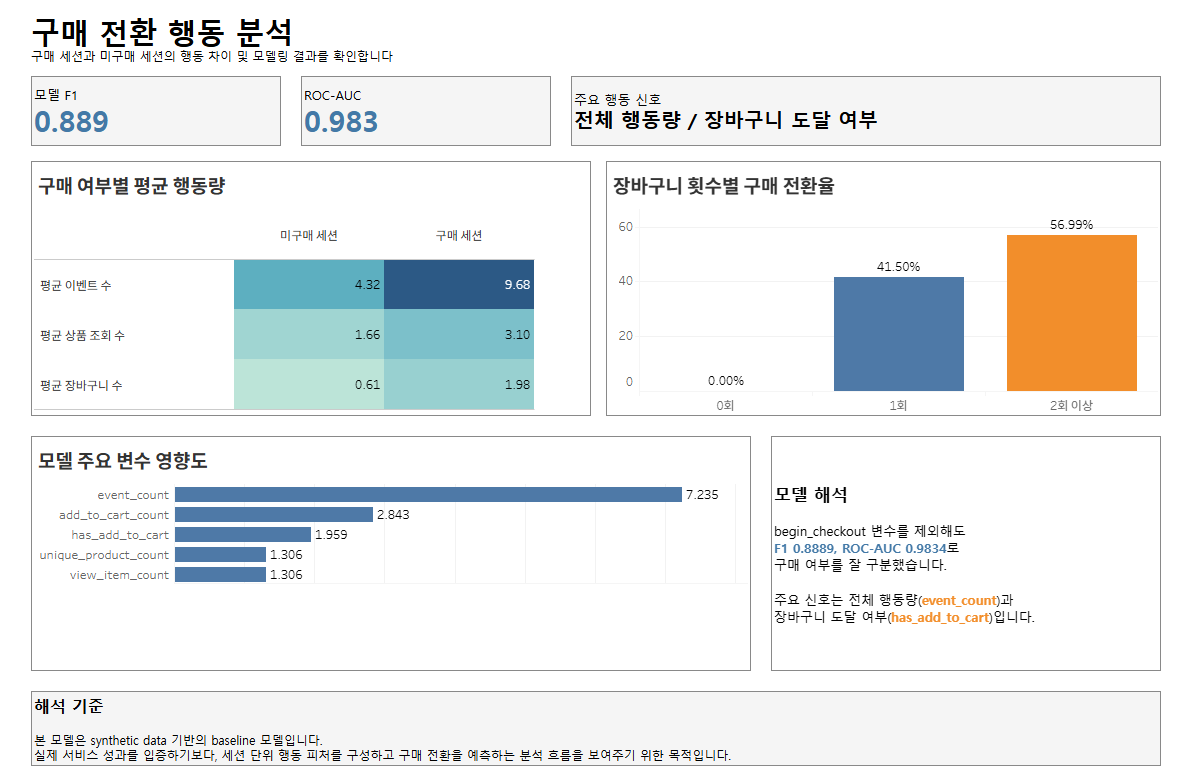

The page's visual inventory and layout, read from the dashboard file:
{"tool":"tableau","page":{"name":"02_구매 전환 행동 분석","canvas":[1200,800],"ordinal":1},"visuals":[{"type":"text","box":[35,20,1000,55]},{"type":"text","box":[35,85,250,70]},{"type":"text","box":[305,85,250,70]},{"type":"text","box":[575,85,590,70]},{"type":"worksheet","title":"구매여부별평균행동량히트맵","mark":"Square","cols":["purchase_status"],"box":[35,170,560,255]},{"type":"worksheet","title":"장바구니횟수별구매전환율","mark":"Bar","rows":["purchase_conversion_rate"],"cols":["add_to_cart_count_segment"],"box":[610,170,555,255]},{"type":"worksheet","title":"모델주요변수영향도","mark":"Bar","rows":["feature"],"cols":["abs_coefficient"],"box":[35,445,720,235]},{"type":"text","box":[775,445,390,235]},{"type":"text","box":[35,700,1130,75]}]}

Visuals, with their boxes in screenshot pixels (x1, y1, x2, y2), scaled from the page's 1200x800 canvas onto the 1196x782 screenshot:
text: left=35, top=20, right=1032, bottom=73
text: left=35, top=83, right=284, bottom=152
text: left=304, top=83, right=553, bottom=152
text: left=573, top=83, right=1161, bottom=152
"구매여부별평균행동량히트맵" worksheet (Square marks): left=35, top=166, right=593, bottom=415
"장바구니횟수별구매전환율" worksheet (Bar marks): left=608, top=166, right=1161, bottom=415
"모델주요변수영향도" worksheet (Bar marks): left=35, top=435, right=752, bottom=665
text: left=772, top=435, right=1161, bottom=665
text: left=35, top=684, right=1161, bottom=758
